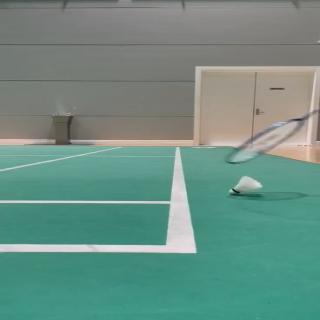Shuttle: (229, 176, 262, 195)
